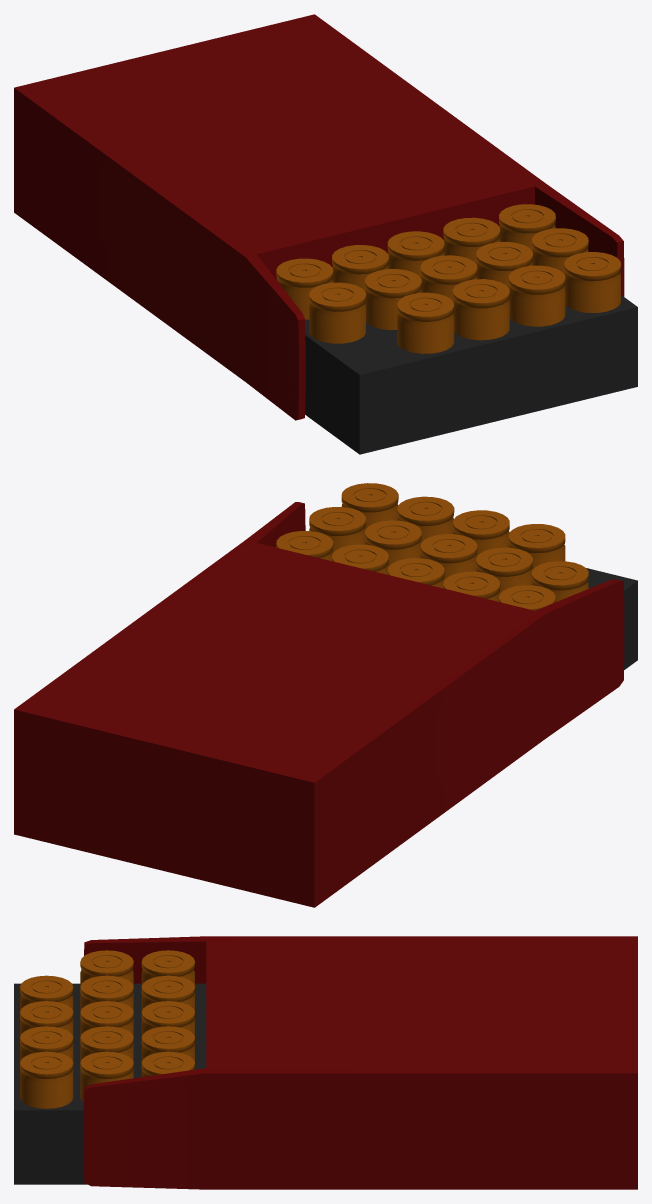
3 views of the same model, one above another, from view 1: azimuth 30°, elevation 25°; view 2: azimuth 150°, elevation 25°; view 3: azimuth 270°, elevation 25° (orthographic). The views are drawn at different scales.
Parts seen in each view (by area): view 1: BulletBox_Geo (×3); view 2: BulletBox_Geo (×3); view 3: BulletBox_Geo (×3).
Part boxes in pixels (bbox=[...]): BulletBox_Geo (×3): bbox=[14, 14, 637, 454]; BulletBox_Geo (×3): bbox=[14, 483, 637, 907]; BulletBox_Geo (×3): bbox=[14, 936, 637, 1189].
Bounding box in the file's own units: 1.12 × 0.4121 × 2.
